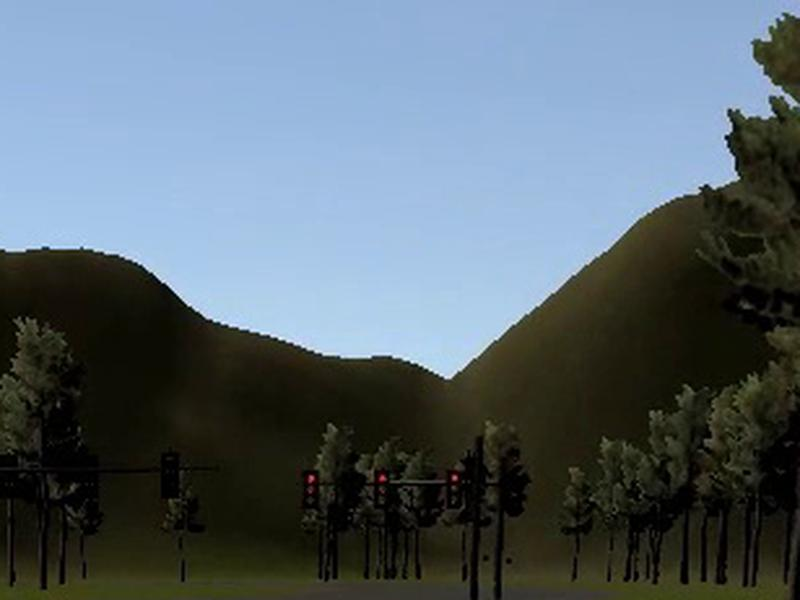Red: (446, 470, 462, 510), (302, 469, 318, 509), (374, 469, 388, 510)
